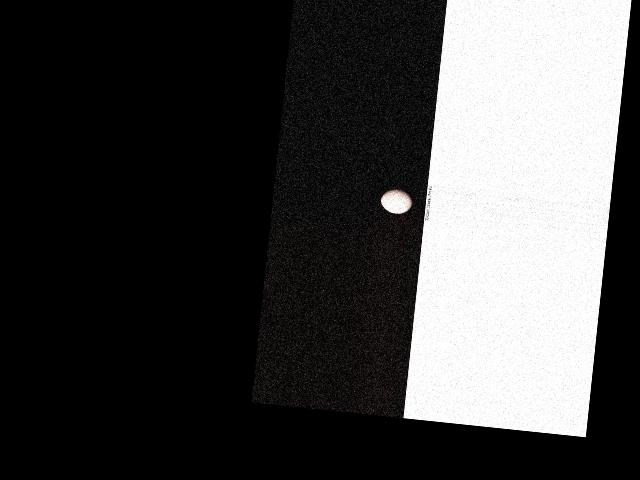egg: (380, 187, 414, 214)
